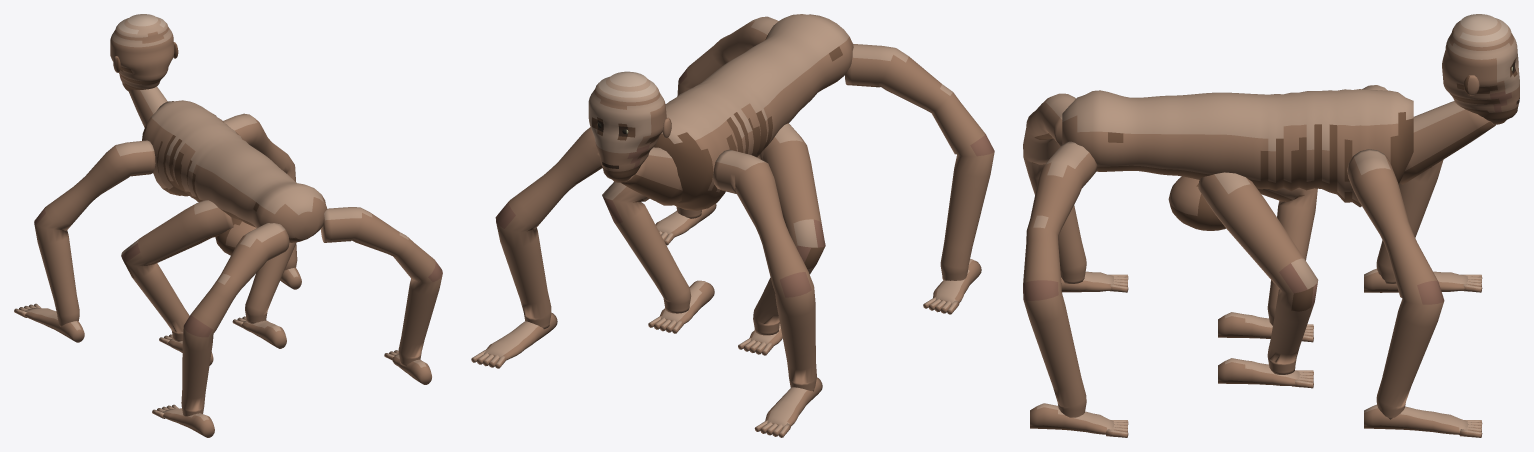
The picture shows the model from 3 angles, left to right: view 1: azimuth 30°, elevation 25°; view 2: azimuth 150°, elevation 25°; view 3: azimuth 270°, elevation 25°; orthographic projection. The views are drawn at different scales.
Size of the model in its own units: 1.54 by 1.52 by 2.01.
